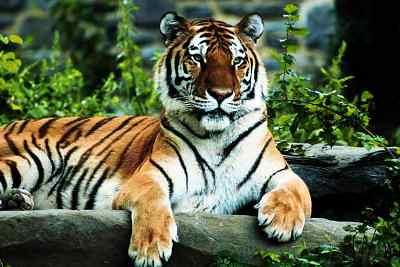tiger: (1, 11, 313, 267)
